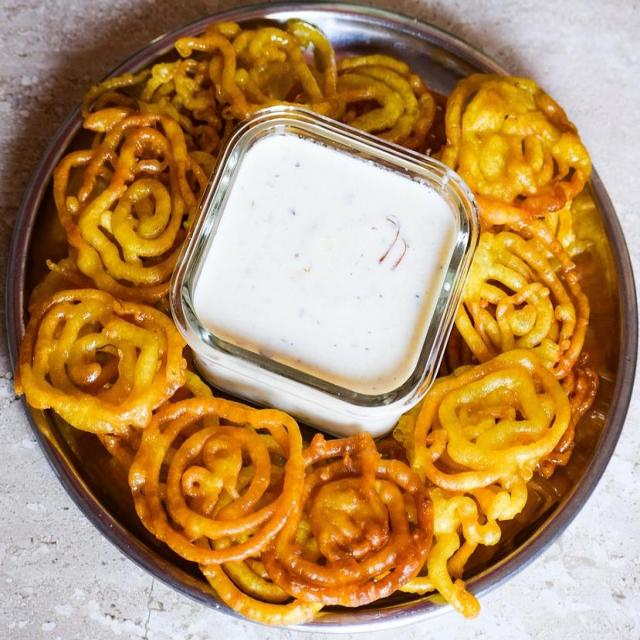jalebi: (24, 15, 614, 597)
